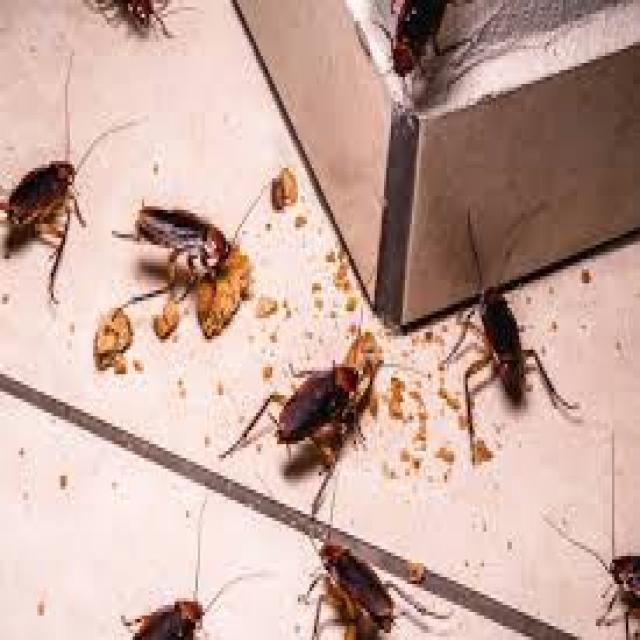Cockroach: (238, 279, 403, 536), (441, 198, 568, 462), (120, 148, 260, 322), (0, 94, 98, 305), (287, 522, 422, 640)
